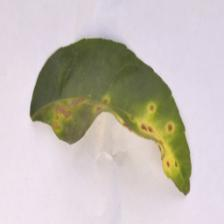canker: (20, 72, 190, 185)
